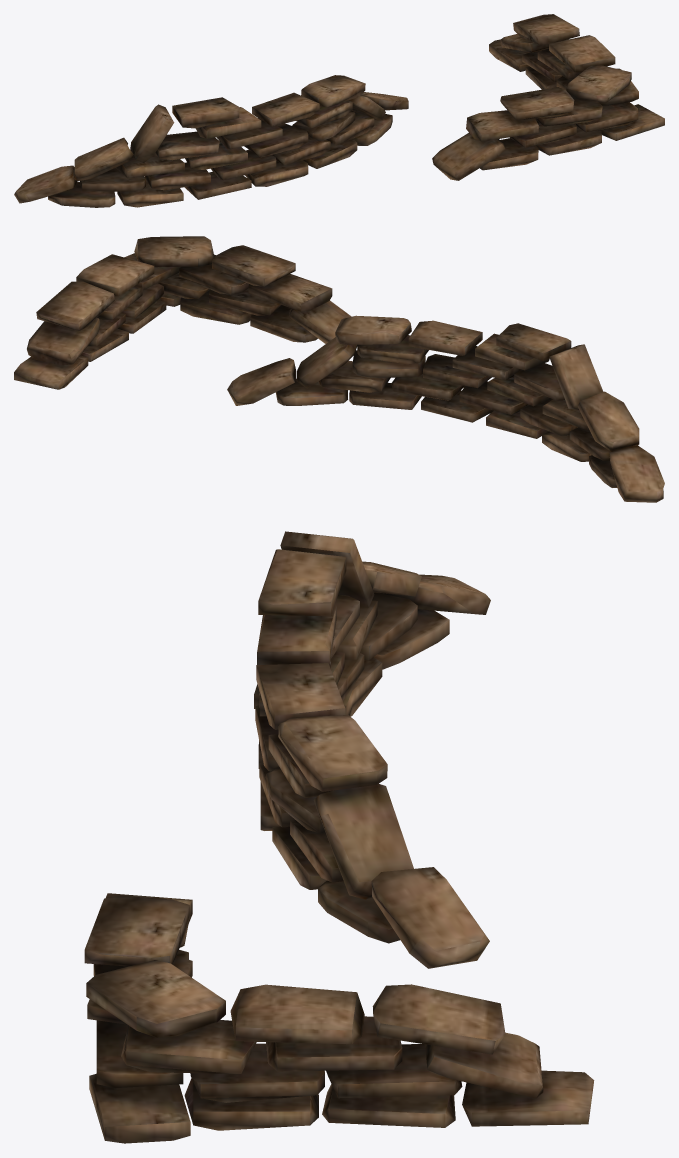
The model's file is sandbags.glb.
3 views of the same model, one above another, from view 1: azimuth 30°, elevation 25°; view 2: azimuth 150°, elevation 25°; view 3: azimuth 270°, elevation 25° (orthographic). The views are drawn at different scales.
Parts seen in each view (by area): view 1: sandbags 1_sandbags 1_0, sandbags 2_sandbags 2_0; view 2: sandbags 1_sandbags 1_0, sandbags 2_sandbags 2_0; view 3: sandbags 2_sandbags 2_0, sandbags 1_sandbags 1_0.
Part boxes in pixels (x1,y1,x2,y2): sandbags 1_sandbags 1_0: [14, 75, 408, 207]; sandbags 2_sandbags 2_0: [432, 14, 664, 180]; sandbags 1_sandbags 1_0: [227, 315, 664, 502]; sandbags 2_sandbags 2_0: [14, 236, 351, 389]; sandbags 2_sandbags 2_0: [84, 893, 594, 1143]; sandbags 1_sandbags 1_0: [254, 531, 490, 968].
Bounding box in the file's own units: 6.4 × 0.9538 × 2.5.
Materials: 2 (2 with a texture image).
